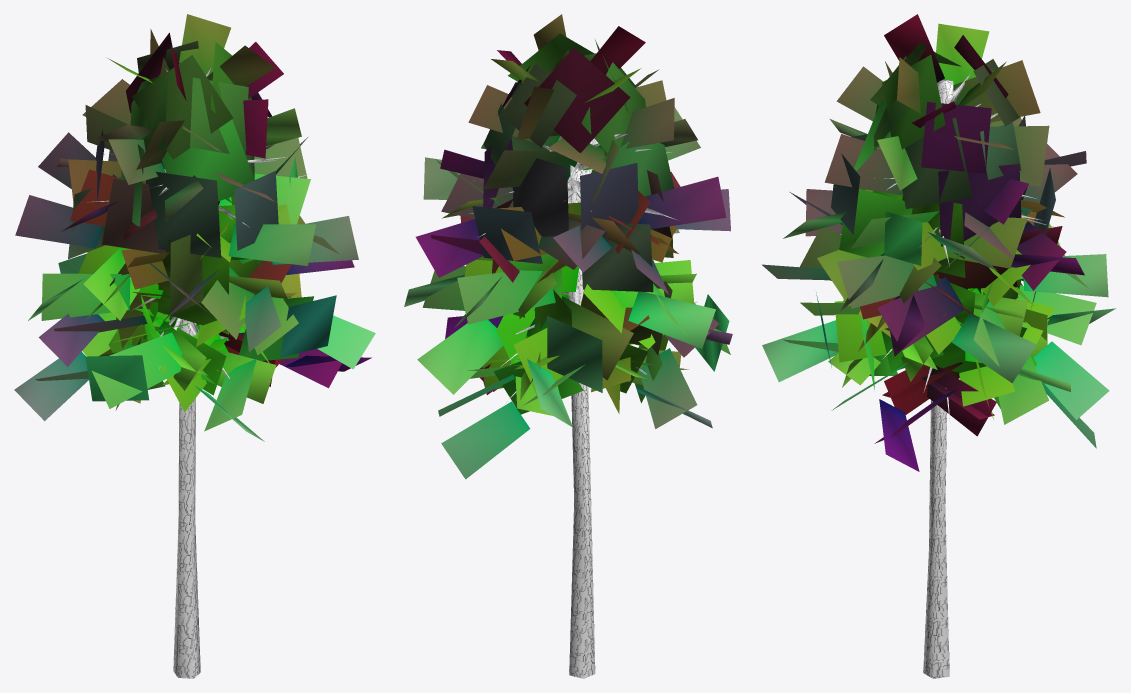
The model's file is WhitePine_LOD2.fbx.
3 renders of one model, left to right at view 1: azimuth 30°, elevation 25°; view 2: azimuth 150°, elevation 25°; view 3: azimuth 270°, elevation 25°, orthographic.
Visible parts, largest first — view 1: Foliage, Bark; view 2: Foliage, Bark; view 3: Foliage, Bark.
Boxes of the visible parts, x1,y1,x2,y2 form: Foliage: (14, 14, 375, 441); Bark: (81, 68, 308, 678); Foliage: (404, 14, 732, 479); Bark: (469, 134, 676, 678); Foliage: (762, 14, 1115, 471); Bark: (836, 67, 1054, 678).
Bounding box in the file's own units: 9.23 × 18.3 × 9.12.
